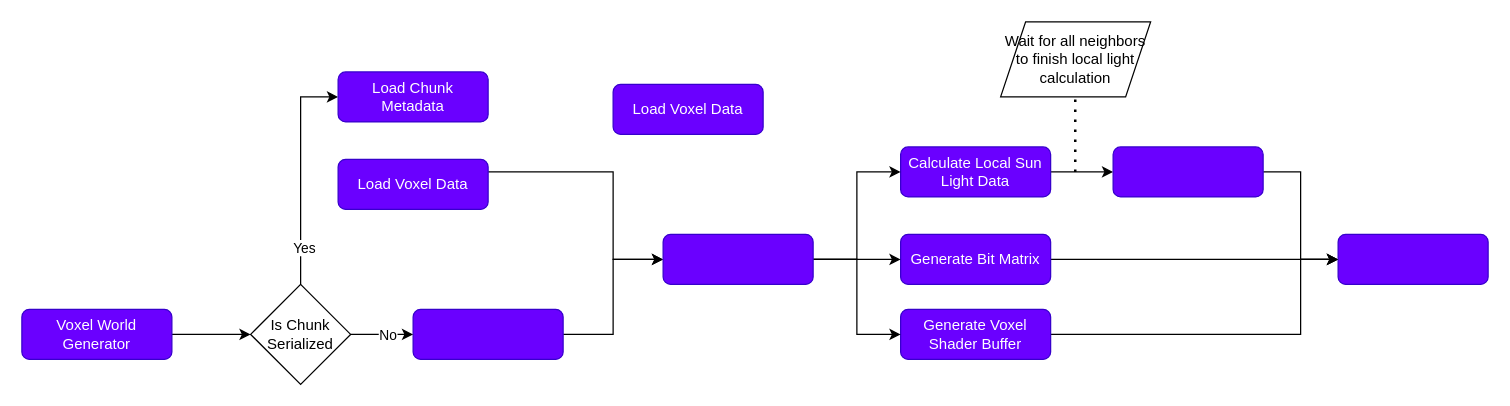
The diagram is 1510 pixels wide and 406 high, and some of its shapes have lost their labels. The centre of each missing label's shape, as x and y in pixels:
"Calculate Neighboring Sun light influence" goes at [1187,171].
"Generate Mesh" goes at [1412,258].
"Generate Voxel Data" goes at [487,333].
"Manage Chunk Generation" goes at [737,258].
